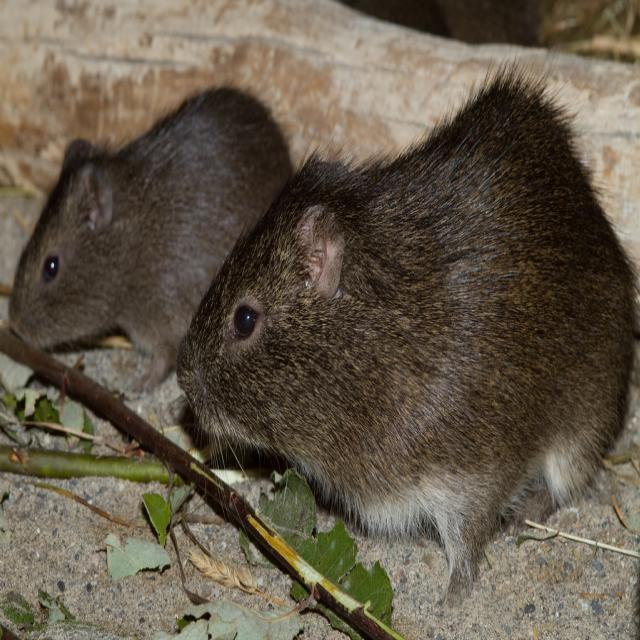rat: (186, 56, 638, 608), (7, 76, 301, 390)
